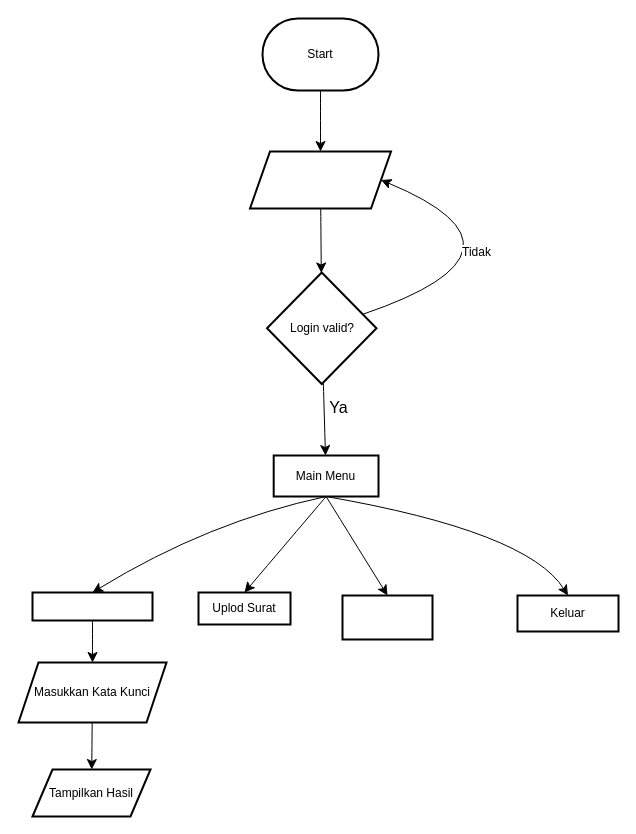
Some shapes in this 636 by 834 pixel diagram are drawn without their labels. Each missing label, with the centre of its shape:
"Cari Surat" belongs at point 92,606.
"Input Username & Password" belongs at point 320,179.
"Lihat Daftar Surat" belongs at point 387,617.
